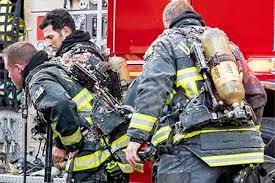emergent: (138, 1, 251, 182), (2, 42, 107, 182)
